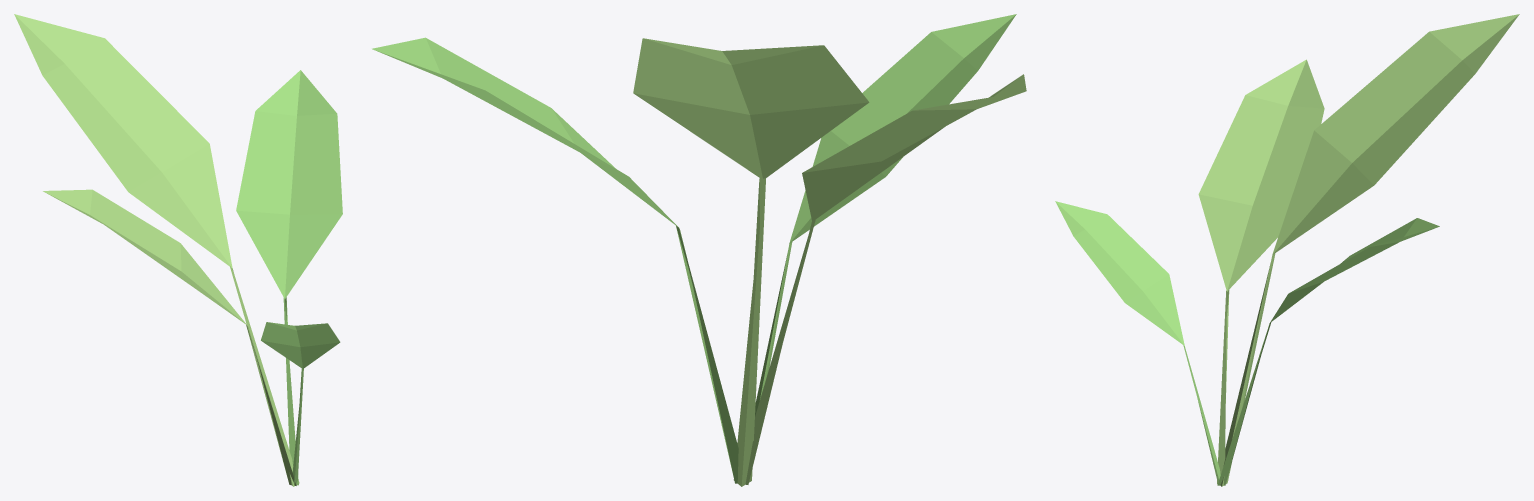
The model's file is Plant_j_OneS_09.fbx.
The picture shows the model from 3 angles, left to right: view 1: azimuth 30°, elevation 25°; view 2: azimuth 150°, elevation 25°; view 3: azimuth 270°, elevation 25°; orthographic projection. The views are drawn at different scales.
Visible parts, largest first — view 1: Plant_j_OneS_09; view 2: Plant_j_OneS_09; view 3: Plant_j_OneS_09.
Boxes of the visible parts, x1,y1,x2,y2 form: Plant_j_OneS_09: [14, 14, 342, 486]; Plant_j_OneS_09: [372, 14, 1026, 486]; Plant_j_OneS_09: [1055, 14, 1519, 486].
Bounding box in the file's own units: 0.2797 × 0.3246 × 0.3387.
